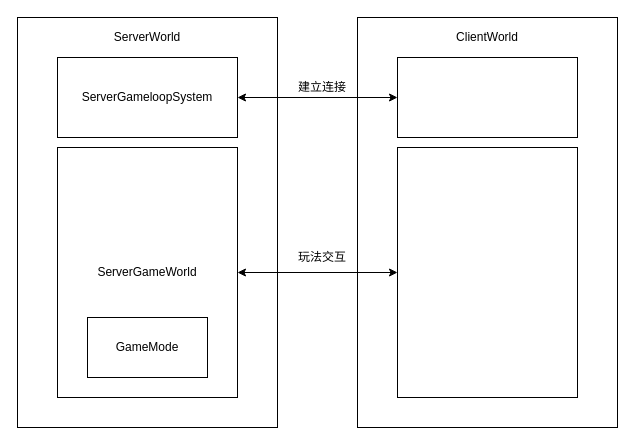
Some shapes in this 635 by 445 pixel diagram are drawn without their labels. The centre of each missing label's shape, as x and y in pixels:
"ClientGameloopSystem" belongs at point 487,97.
"ClientGameWorld" belongs at point 487,272.
